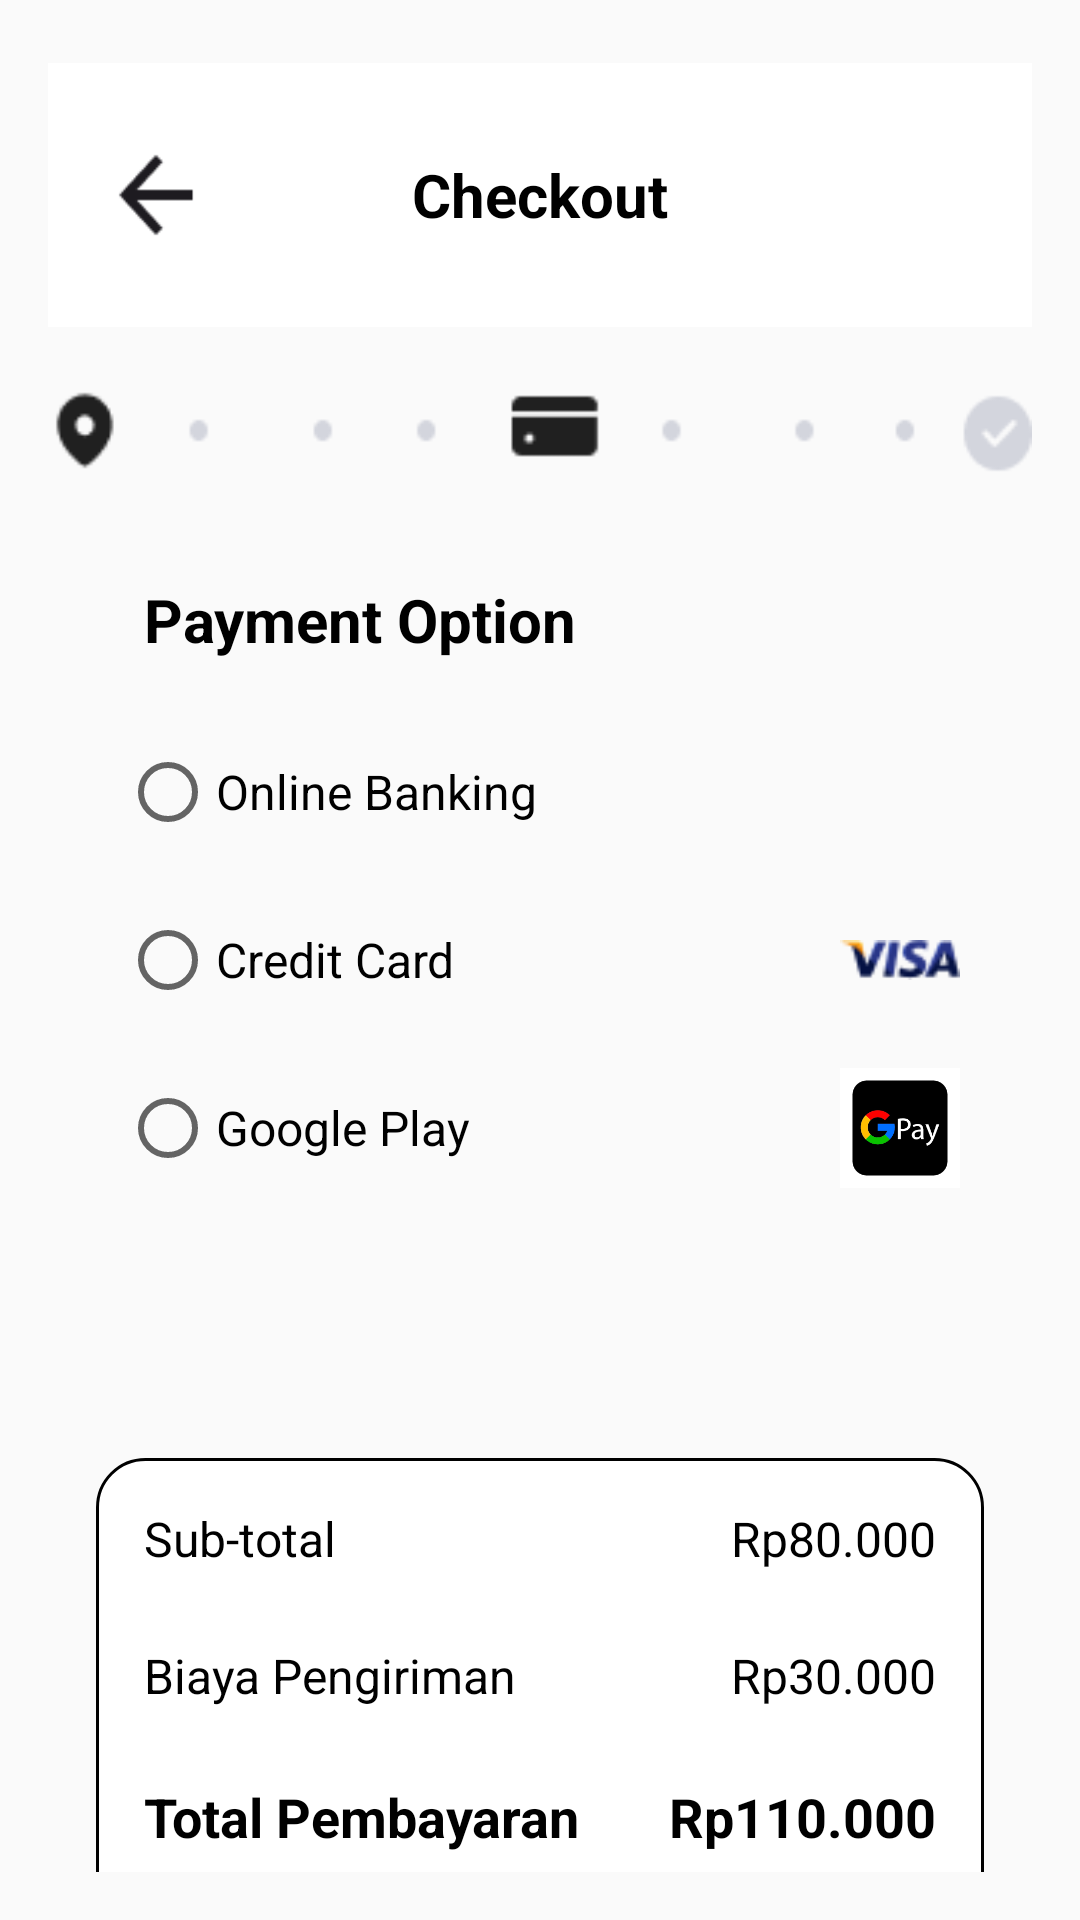

Named icons in this screenshot (1080*1920) and their centers, (x=x, y=y):
back: (x=156, y=195)
